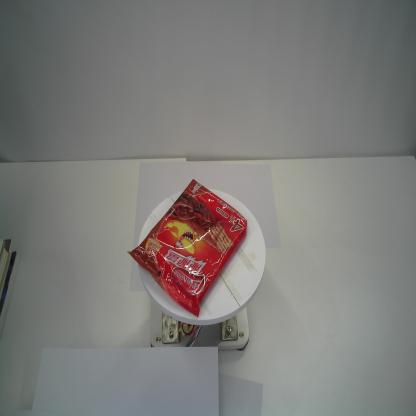Dessert: (126, 178, 248, 318)
